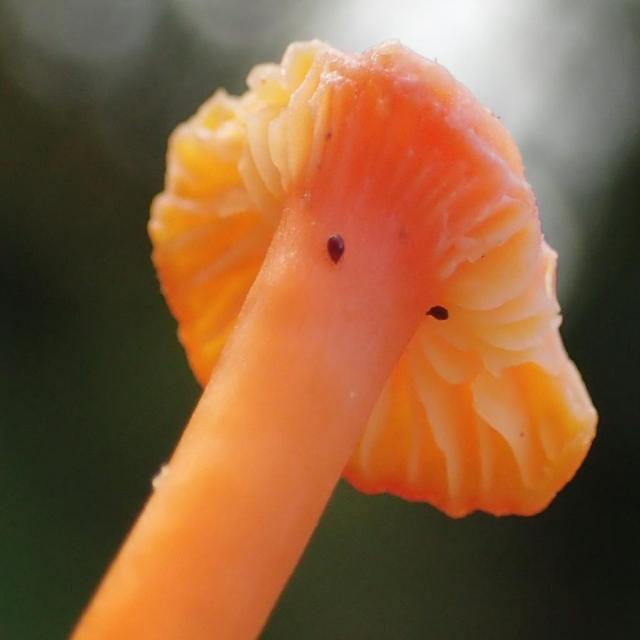Cantharellus cibarius: (76, 39, 599, 640)
